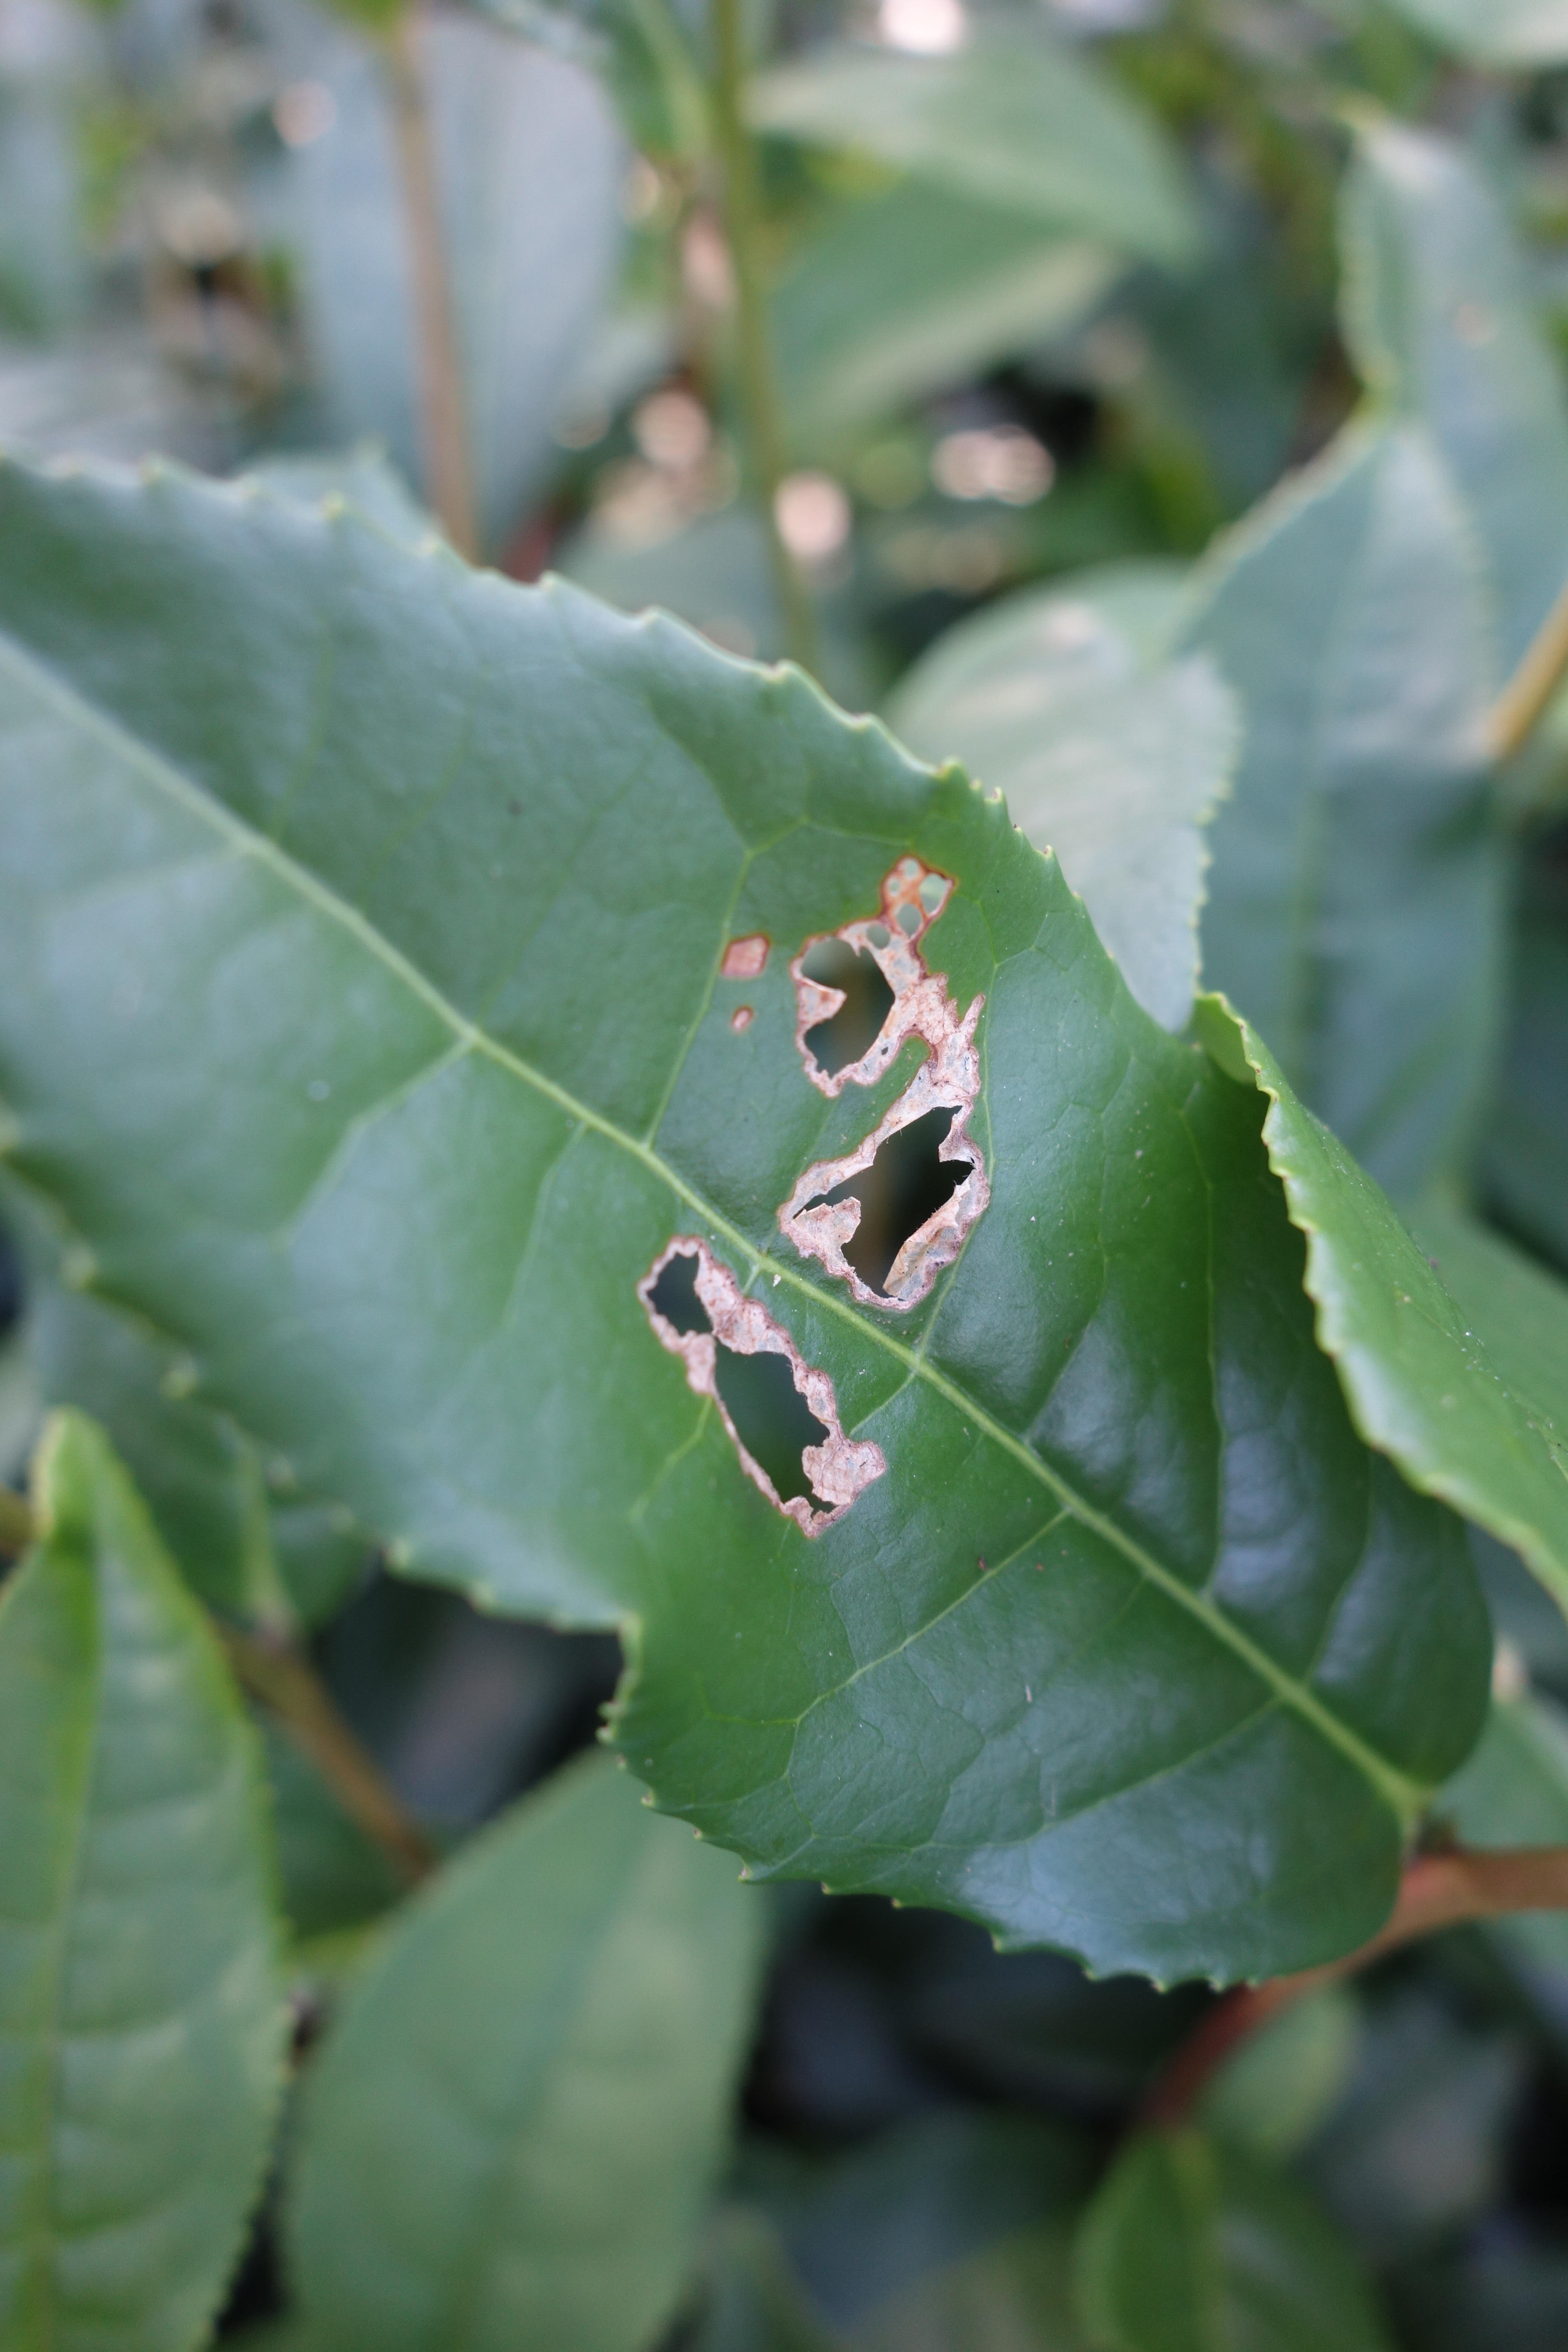chihuo_high: (5, 453, 1501, 1993)
